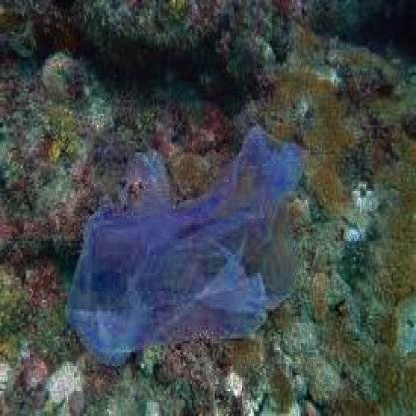pbag: (64, 122, 309, 370)
